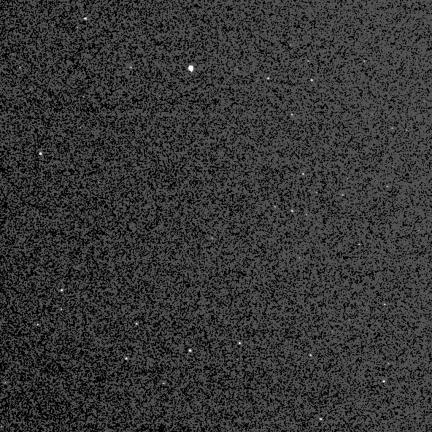blob: (188, 65, 193, 72), (39, 152, 43, 156), (84, 17, 88, 21), (189, 349, 192, 353), (309, 354, 313, 357), (319, 418, 323, 421), (291, 210, 294, 213), (311, 79, 314, 82), (135, 323, 138, 326), (61, 289, 64, 292), (239, 342, 242, 345), (291, 114, 294, 117), (303, 173, 305, 176), (383, 381, 386, 383)
